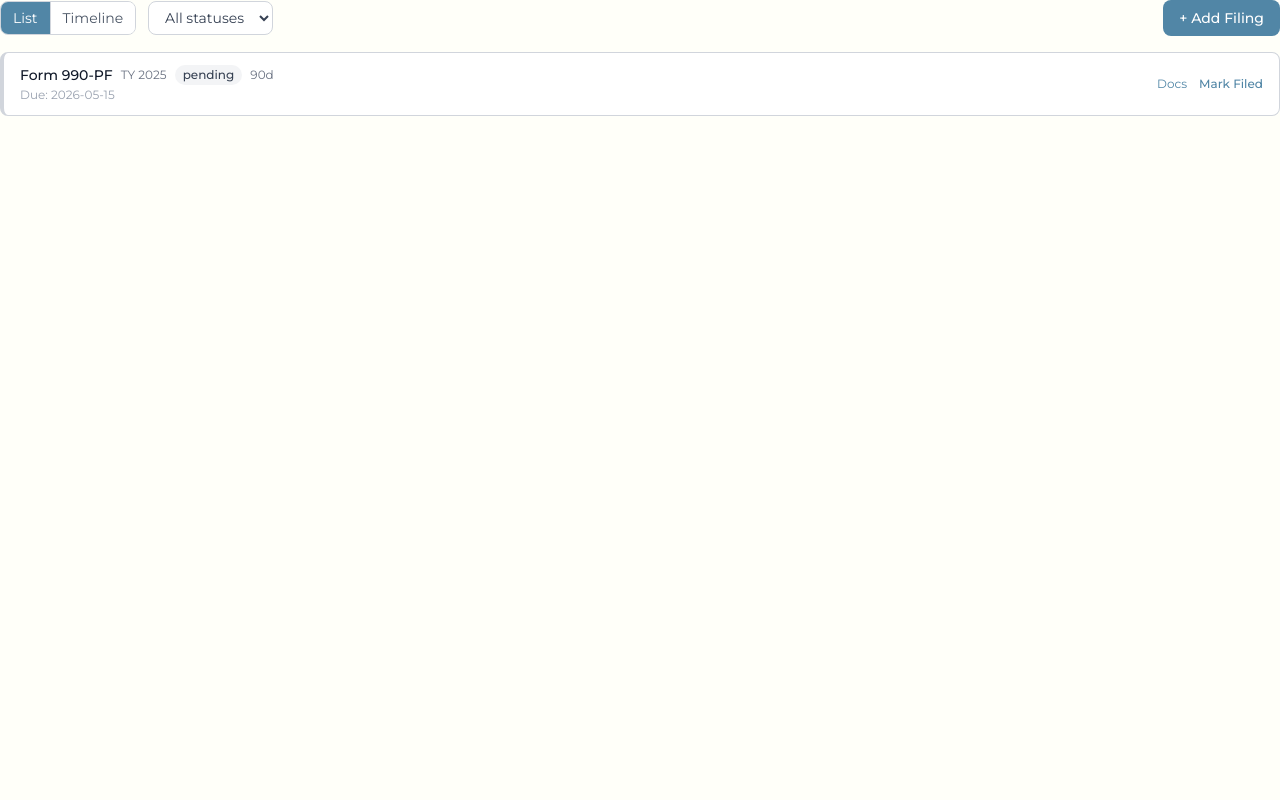
Test case: FilingCalendar › opens Mark Filed modal when button clicked
The width and height of the screenshot is (1280, 800).
Click the button "Mark Filed": x=1231, y=84 [1199,76,1263,92]
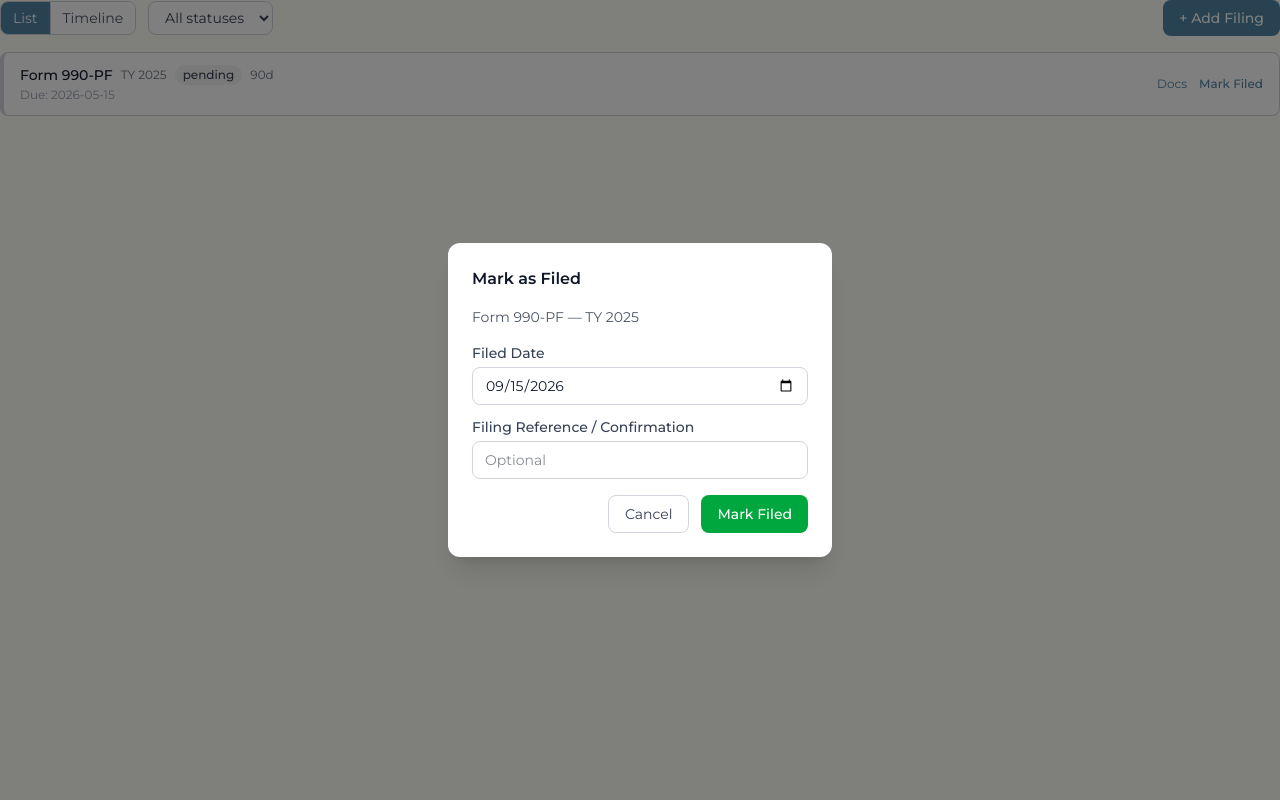
Expected: the heading "Mark as Filed" is shown, [472,269,581,288]
Expected: the field with placeholder "Optional" is shown, [472,441,808,479]
